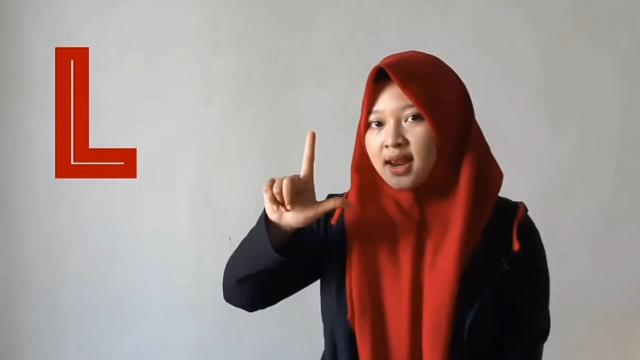L: (260, 128, 350, 226)
